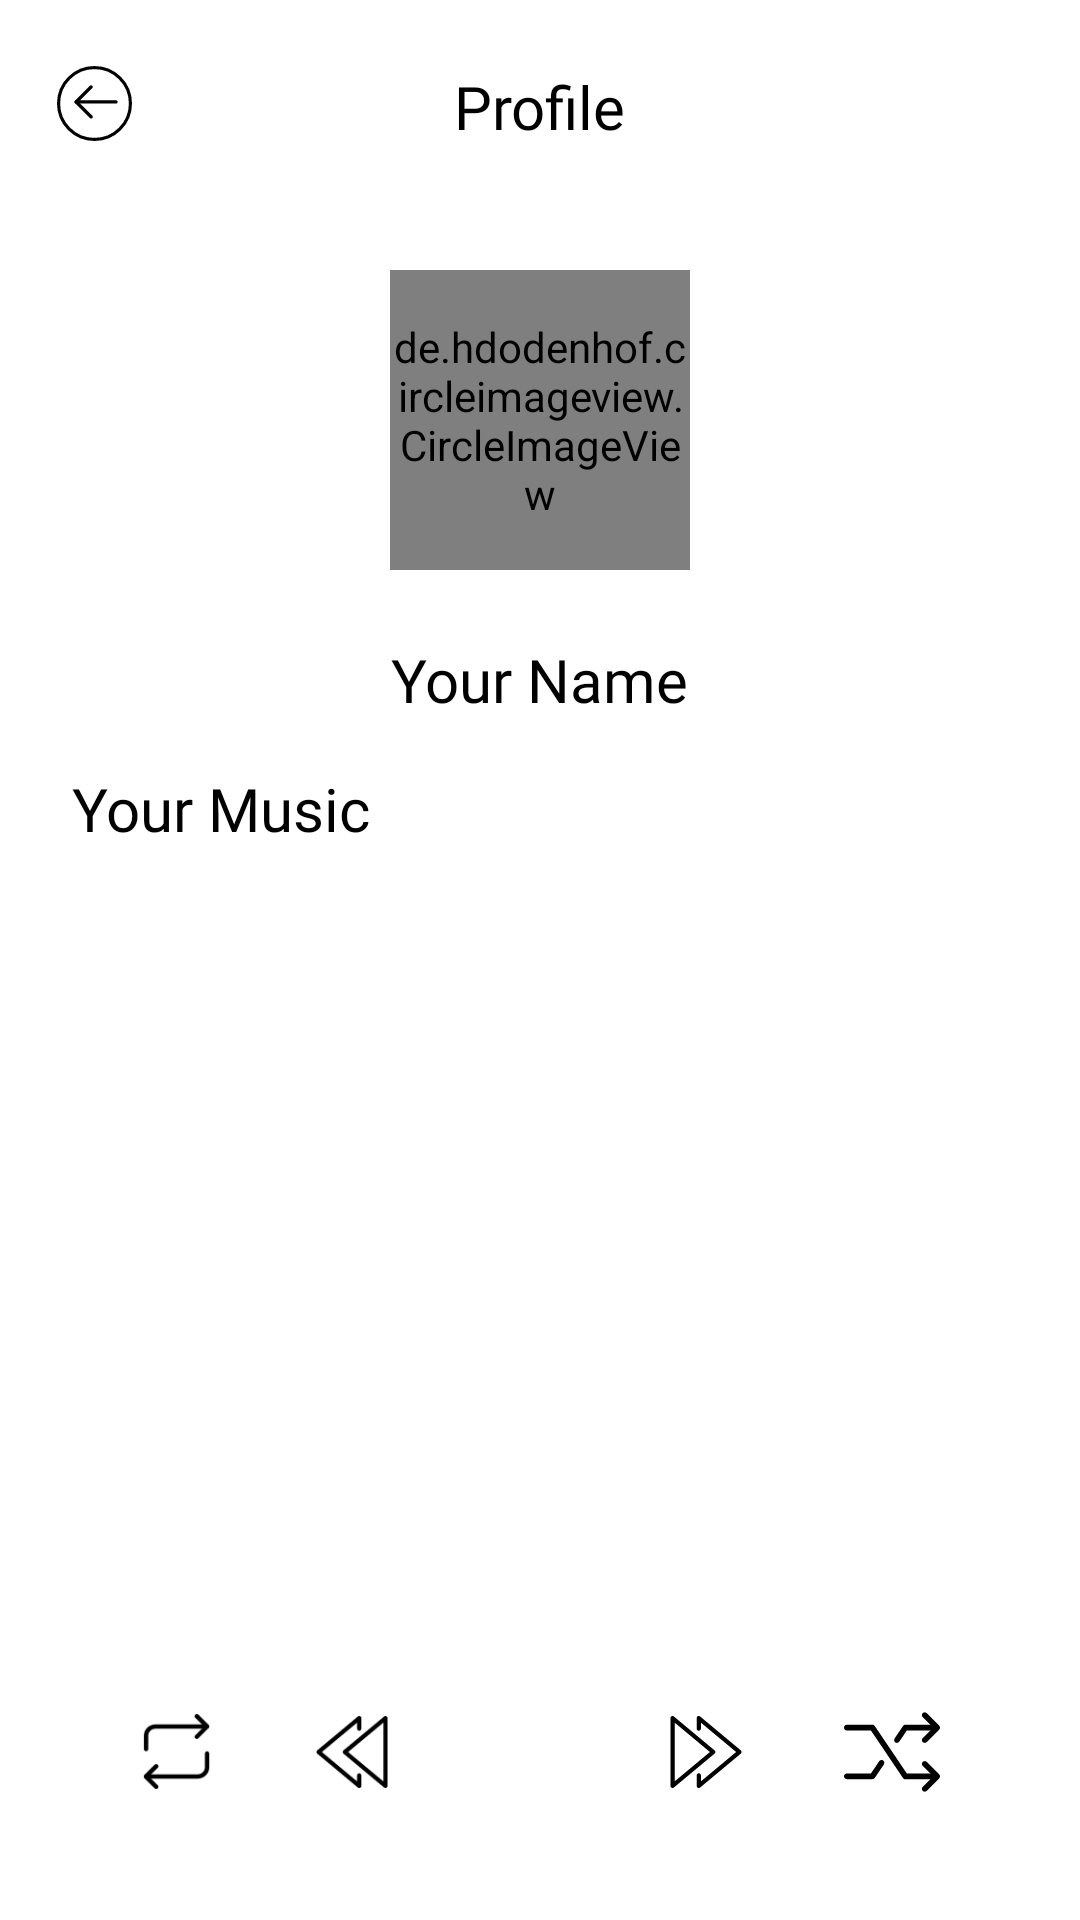

Locate icon controls on the screen. Image size 1080 x 1920, boxes as rect(x1, y1, x2, y2).
back: rect(57, 66, 132, 141)
next: rect(670, 1716, 742, 1788)
previous: rect(316, 1716, 388, 1788)
reload: rect(143, 1714, 210, 1789)
shuffle: rect(844, 1712, 940, 1792)
